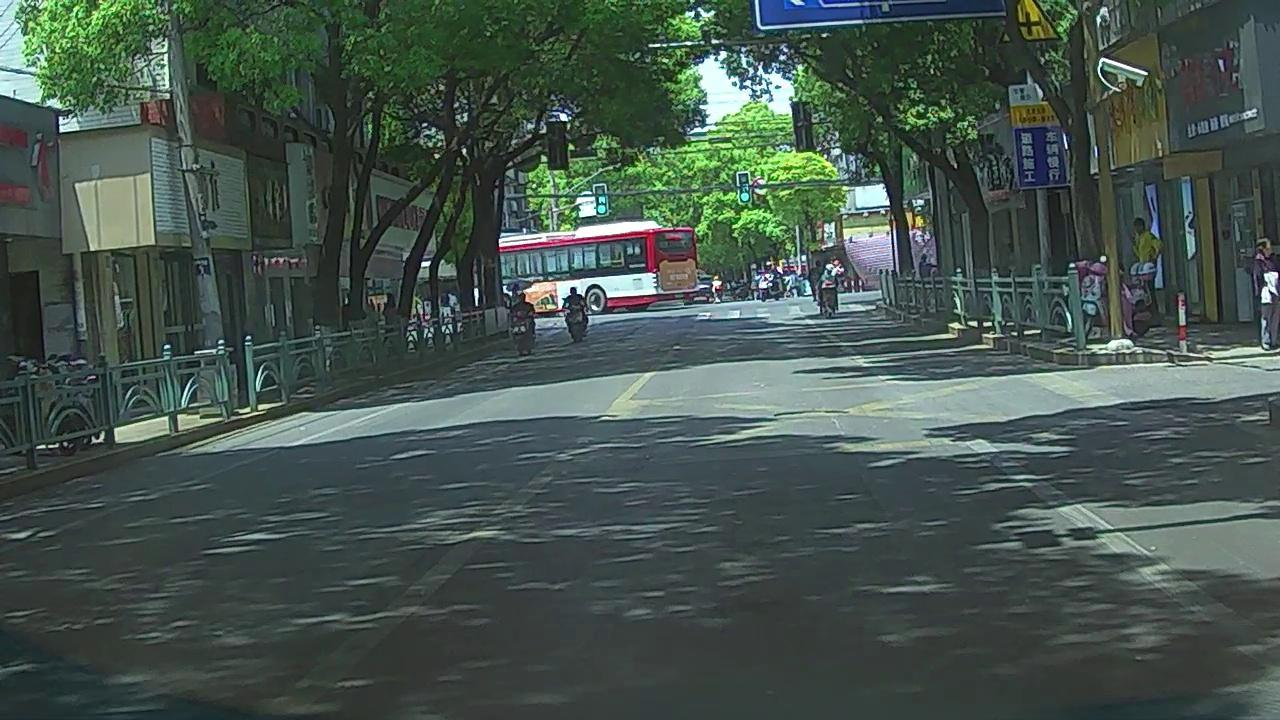traffic_light: (595, 185, 607, 215), (738, 173, 750, 203)
